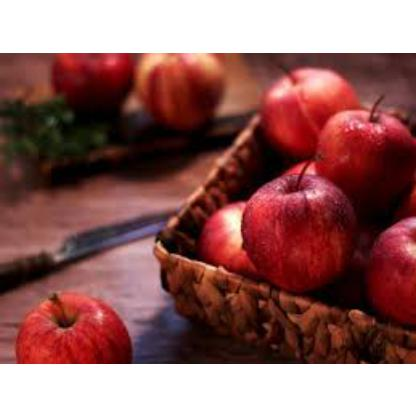apple: (244, 175, 358, 279), (257, 64, 359, 144), (314, 107, 410, 192), (17, 294, 131, 362), (202, 196, 288, 276), (368, 222, 414, 314)
